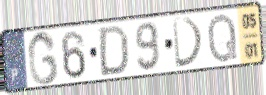6: (59, 29, 88, 80)
9: (134, 20, 163, 73)
D: (171, 16, 206, 70), (98, 24, 130, 78)
G: (26, 29, 60, 87)
Q: (206, 11, 240, 65)
